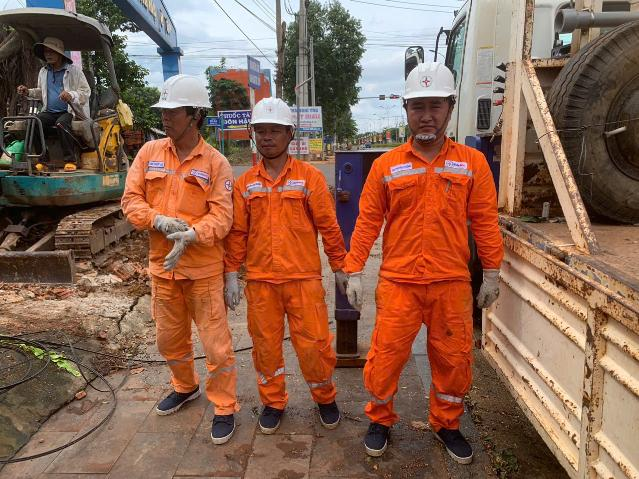gloves: (152, 207, 199, 268), (328, 260, 369, 314), (208, 263, 247, 306), (475, 258, 503, 311)
helmet: (142, 68, 213, 122), (387, 56, 463, 105), (229, 92, 297, 135)
shoes: (144, 375, 206, 413), (432, 422, 473, 471), (249, 388, 285, 439), (359, 421, 396, 466), (204, 402, 236, 450), (310, 395, 341, 436)
